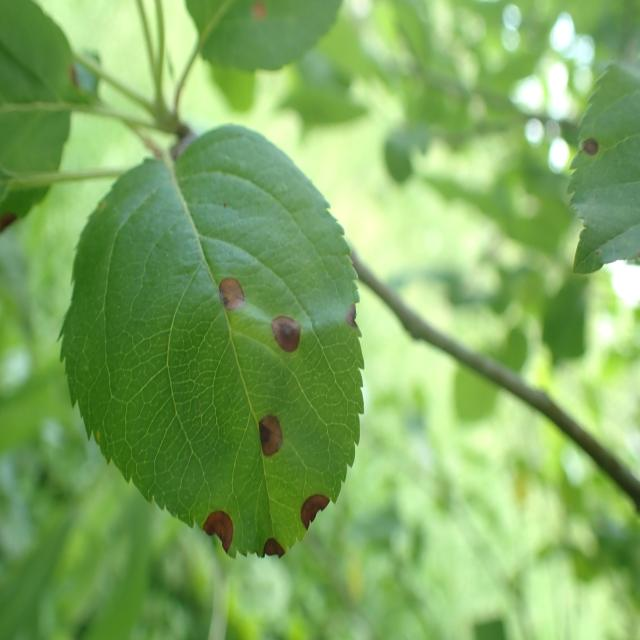Black Rot: (240, 400, 295, 474), (197, 490, 245, 571), (265, 307, 315, 367), (296, 483, 346, 542), (215, 259, 257, 326), (341, 285, 365, 353), (256, 534, 294, 574)
